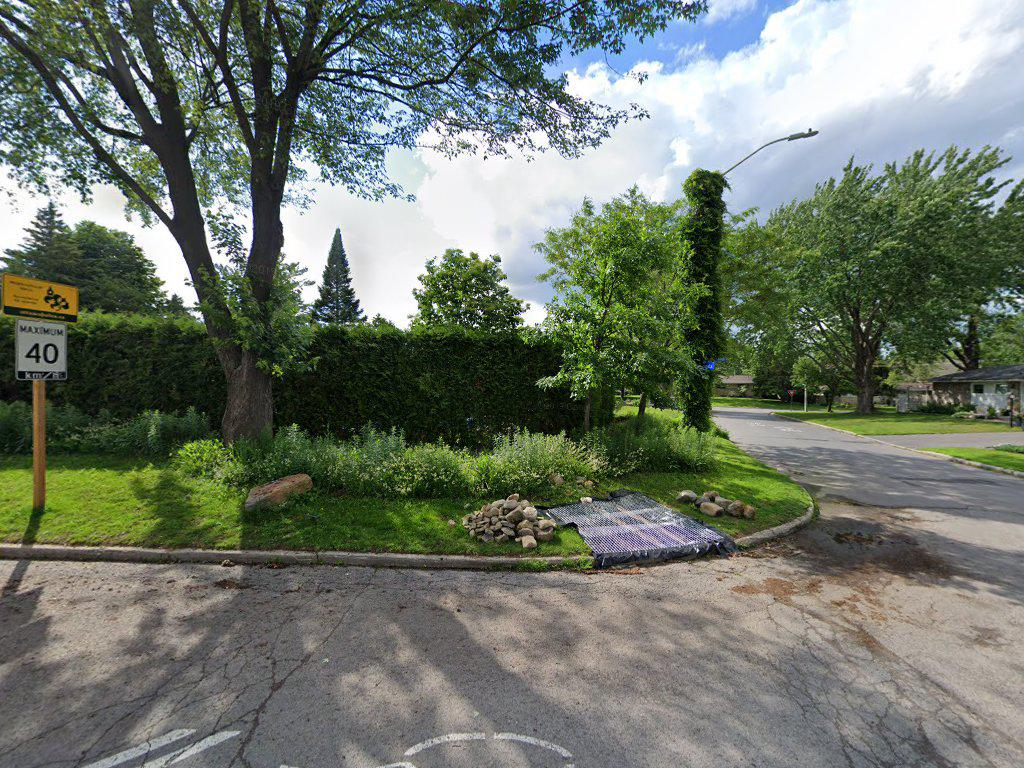trunk: (197, 194, 289, 483)
